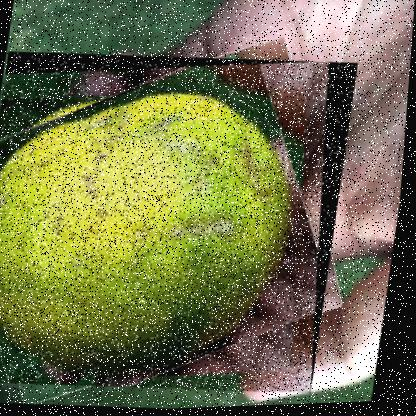orange_rotten: (0, 40, 361, 407)
